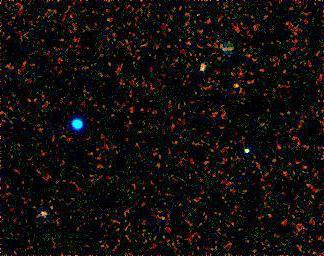star: (222, 71, 252, 101)
